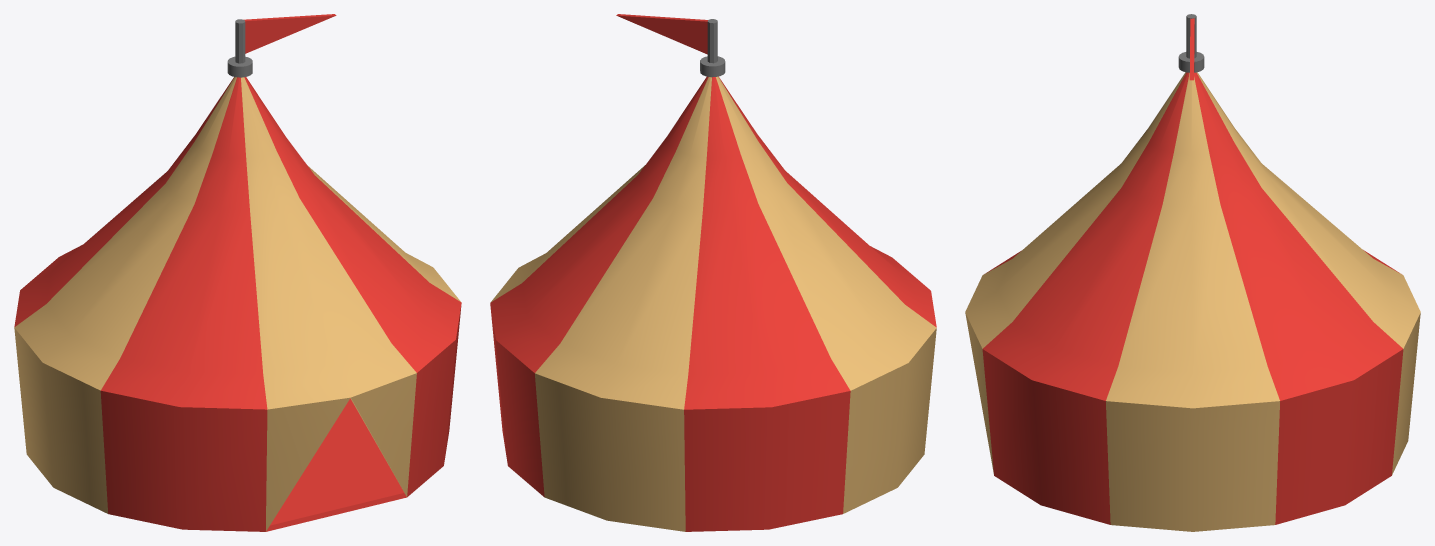
File: cartoonCity_Showcase.fbx
3 renders of one model, left to right at view 1: azimuth 30°, elevation 25°; view 2: azimuth 150°, elevation 25°; view 3: azimuth 270°, elevation 25°, orthographic.
Parts seen in each view (by area): view 1: circusprop; view 2: circusprop; view 3: circusprop.
Boxes of the visible parts, bbox=[...] form: circusprop: bbox=[14, 14, 461, 531]; circusprop: bbox=[490, 14, 936, 531]; circusprop: bbox=[965, 14, 1420, 531].
Size of the model in its own units: 492 by 507 by 492.
